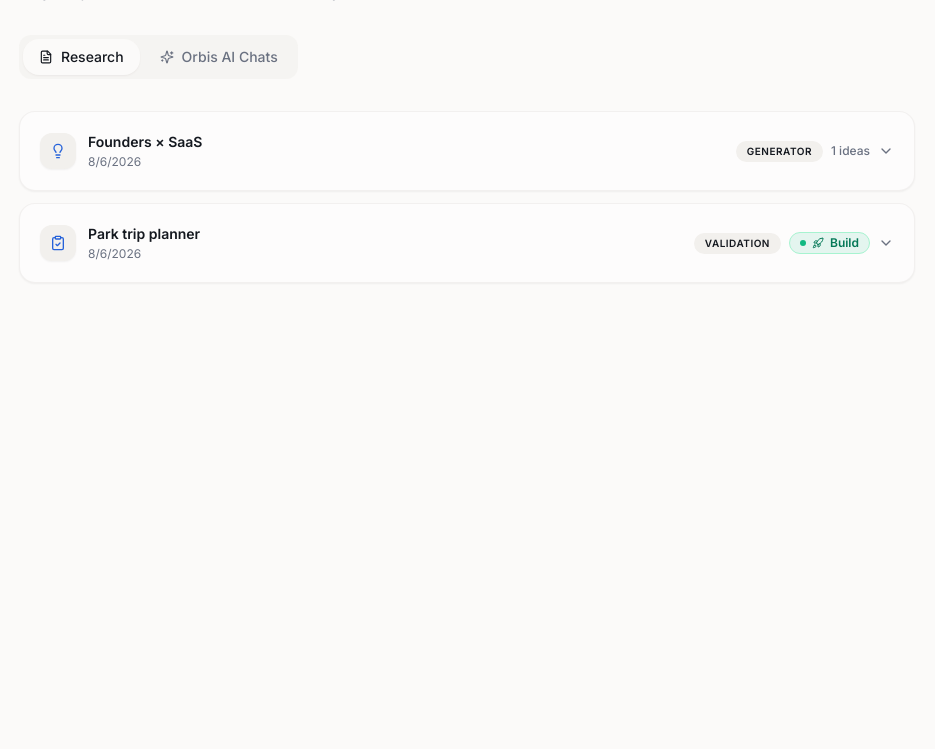
Test: Reports NextStepCard › shows Generate and Validate next-step cards in history details
What coordinates should you click on to do the following:
click the button with aria-label "generator: founders × saas"
I would click on:
 (58, 151)
Its box is [20,112,914,190].
(page scrolled)
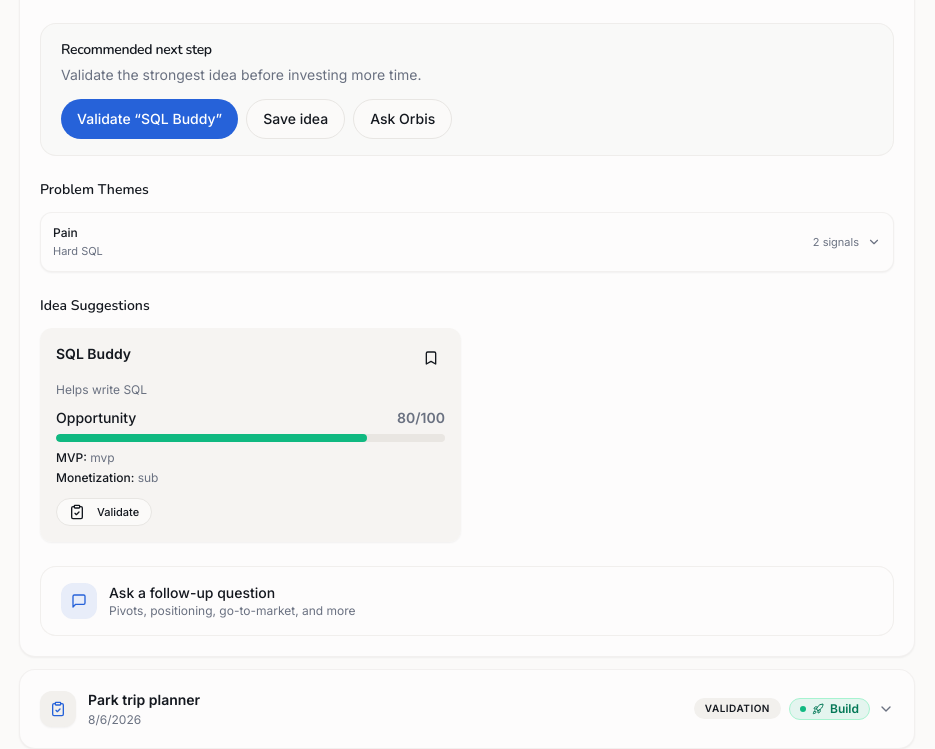
Check: the button "Validate “SQL Buddy”" is shown, box [61,99,238,139]
What coordinates should you click on to do the following:
click the button with aria-label "validation: park trip planner"
I would click on:
 (58, 709)
Its box is [20,670,914,748].
(page scrolled)
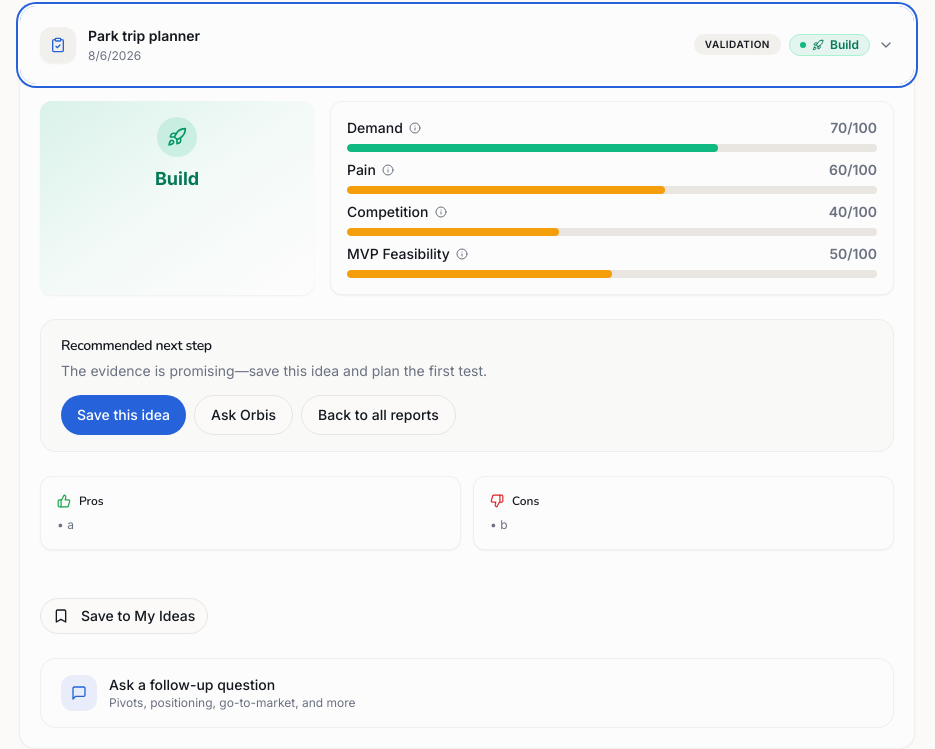
Check: the button "Save this idea" is shown, box [61,394,186,434]
Check: the button "Back to all reports" is shown, box [301,394,456,434]
